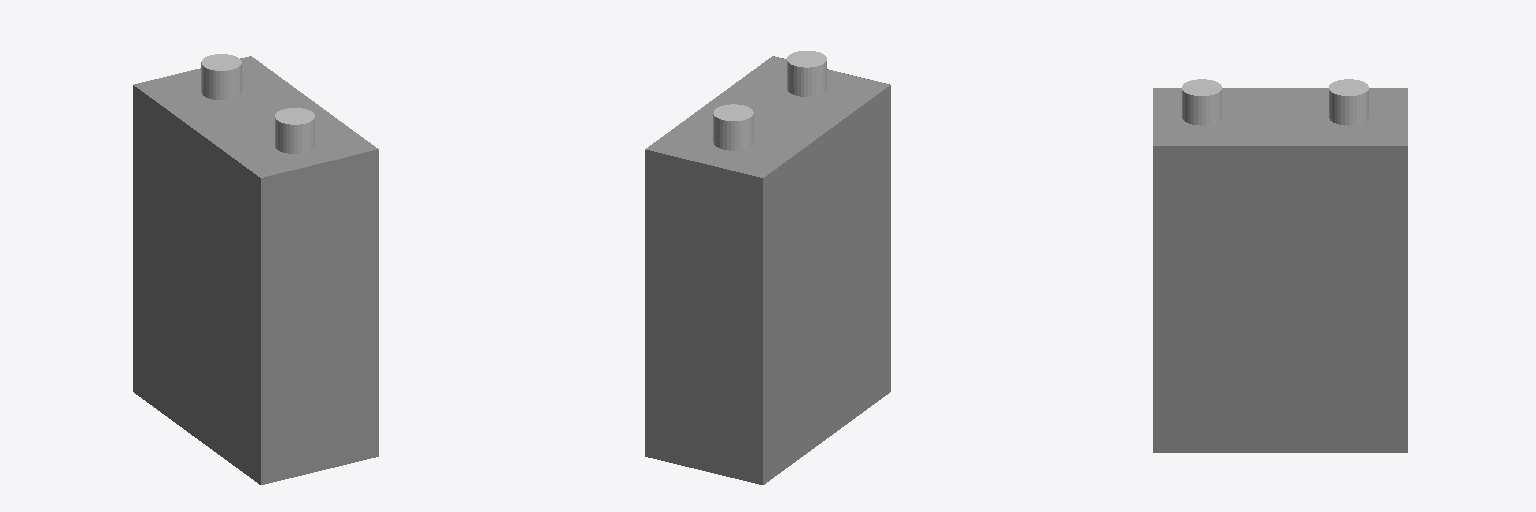
The model's file is battery.obj.
The picture shows the model from 3 angles: view 1: azimuth 30°, elevation 25°; view 2: azimuth 150°, elevation 25°; view 3: azimuth 270°, elevation 25°; orthographic projection.
Parts seen in each view (by area): view 1: Cube.002, Cube.001, Cylinder, Cylinder.001; view 2: Cube.002, Cylinder, Cylinder.001; view 3: Cube.002, Cylinder, Cylinder.001.
Part boxes in pixels (x1,y1,x2,y2): Cube.002: (133, 56, 377, 484); Cube.001: (261, 149, 378, 484); Cylinder: (201, 54, 241, 99); Cylinder.001: (275, 108, 314, 153); Cube.002: (645, 56, 890, 484); Cylinder: (713, 104, 753, 150); Cylinder.001: (787, 51, 826, 96); Cube.002: (1153, 88, 1407, 452); Cylinder: (1329, 79, 1368, 125); Cylinder.001: (1182, 79, 1221, 125).
Bounding box in the file's own units: 0.1951 × 0.5312 × 0.3654.